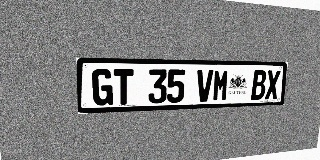3: (148, 69, 167, 104)
5: (167, 69, 185, 103)
B: (251, 70, 267, 100)
G: (92, 69, 113, 106)
M: (212, 70, 229, 101)
T: (114, 69, 133, 105)
V: (196, 70, 213, 102)
X: (265, 70, 281, 99)
